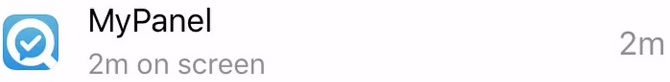name: (80, 5, 223, 42)
time: (87, 47, 135, 80)
